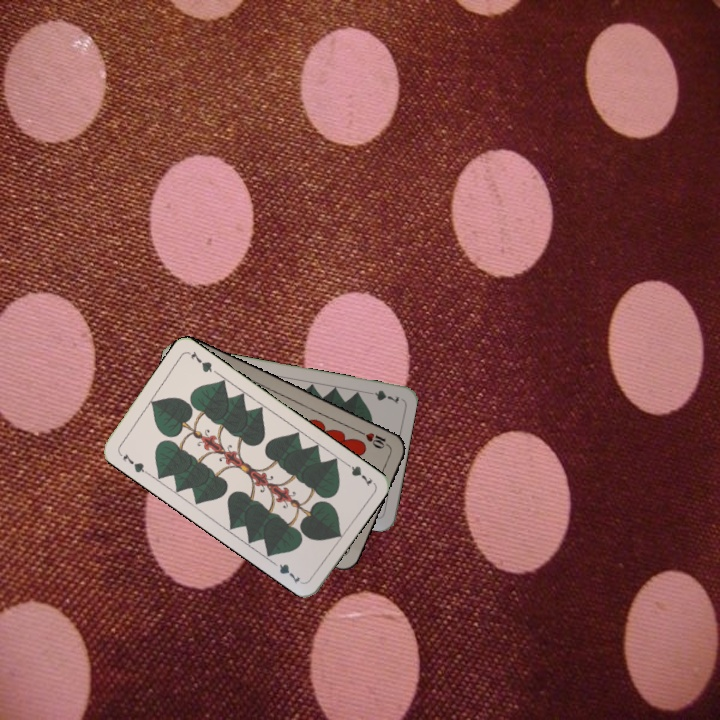G7: (340, 457, 375, 489), (115, 448, 151, 476), (362, 386, 402, 406)
H10: (354, 426, 393, 451)
